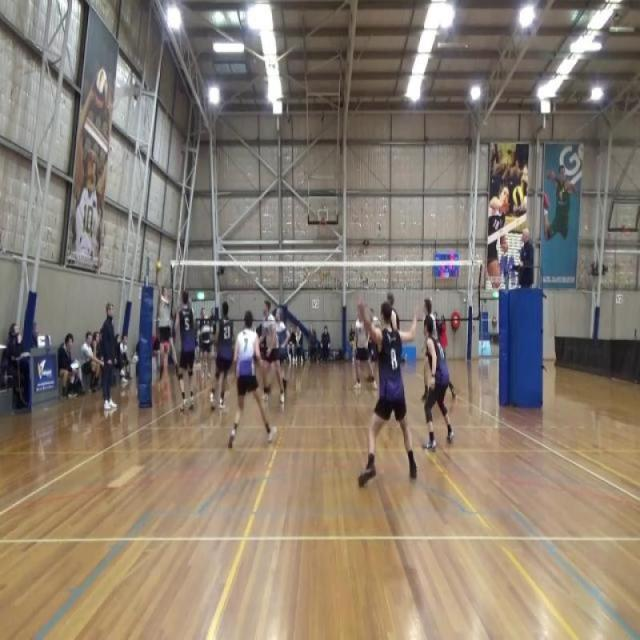volleyball: (94, 70, 110, 114), (512, 184, 524, 208), (156, 259, 162, 274)
